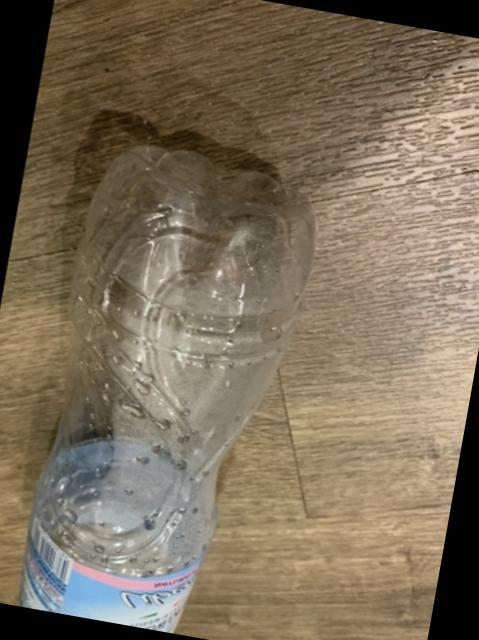plastic: (17, 146, 313, 632)
